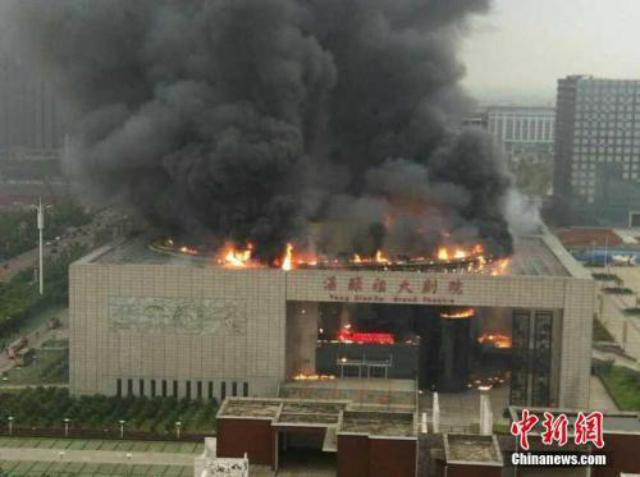fire: (219, 243, 249, 263), (478, 330, 510, 344), (434, 243, 468, 255), (278, 244, 294, 269), (350, 251, 386, 262), (440, 304, 472, 316), (288, 370, 336, 378), (292, 249, 316, 264)
